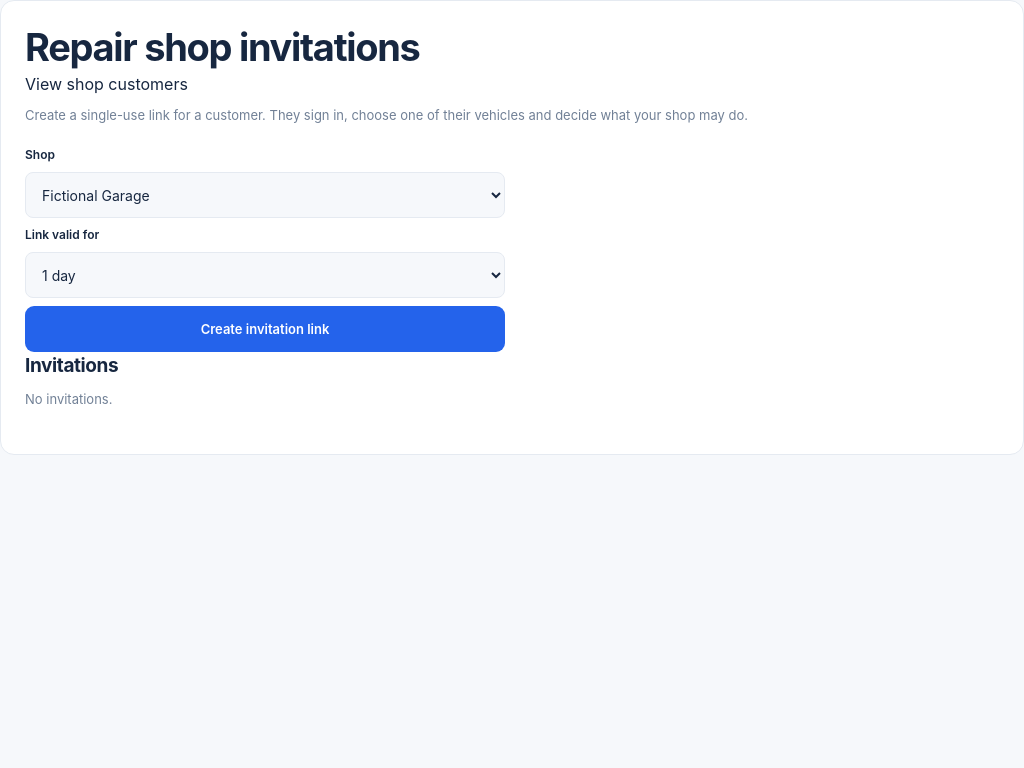
it: reports creation failures and retries shop loading
Click the button "Create invitation link" at (265,329), box [25, 306, 505, 352]
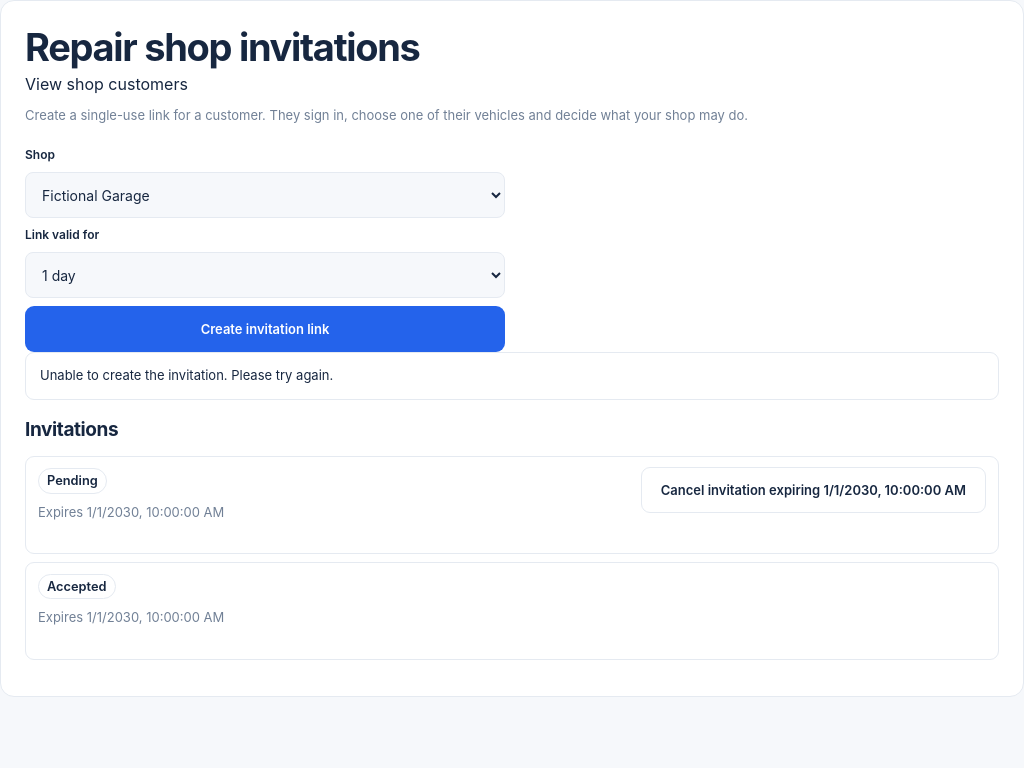
Now the text "Unable to create the invitation. Please try again." is shown, box [25, 352, 999, 400]
